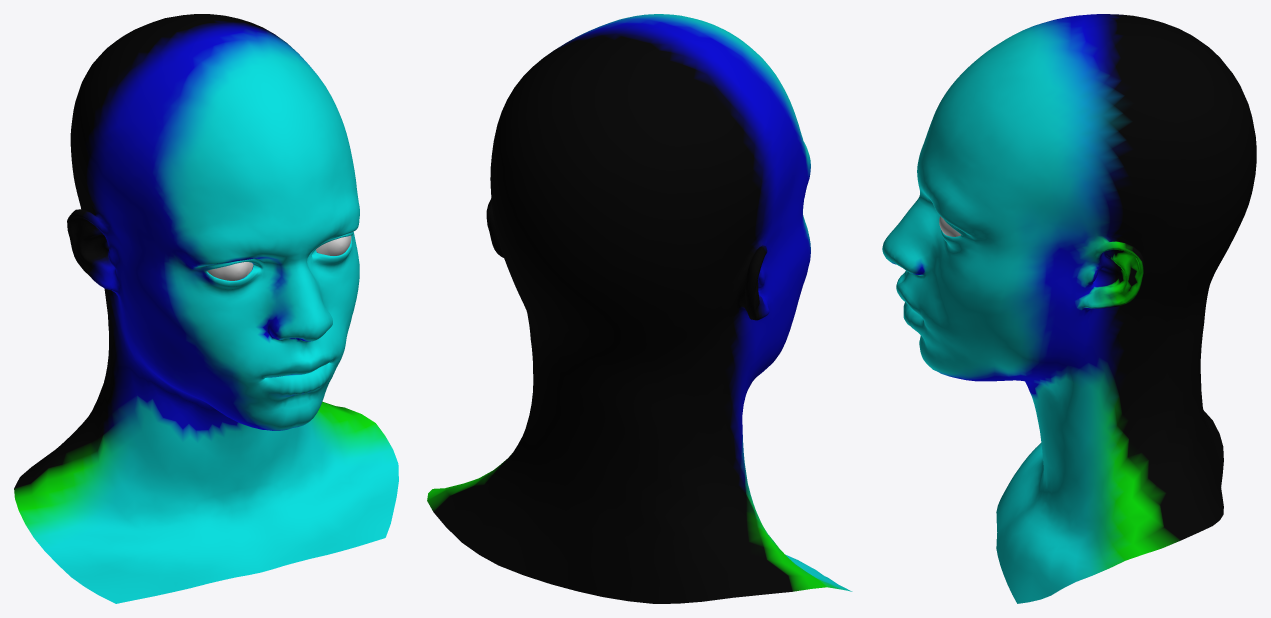
The model's file is nova.glb.
3 views of the same model, side by side, from view 1: azimuth 30°, elevation 25°; view 2: azimuth 150°, elevation 25°; view 3: azimuth 270°, elevation 25° (orthographic). The views are drawn at different scales.
Parts seen in each view (by area): view 1: skin, eyeR; view 2: skin; view 3: skin.
Part boxes in pixels (bbox=[...]): skin: bbox=[14, 14, 398, 603]; eyeR: bbox=[207, 262, 253, 280]; skin: bbox=[427, 14, 852, 603]; skin: bbox=[882, 14, 1256, 603].
Bounding box in the file's own units: 2.43 × 3.3 × 2.18.
